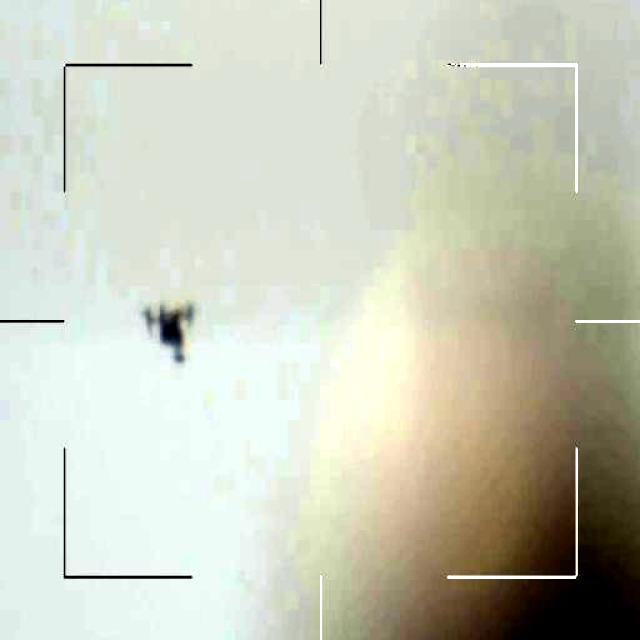bird: (144, 294, 204, 362)
